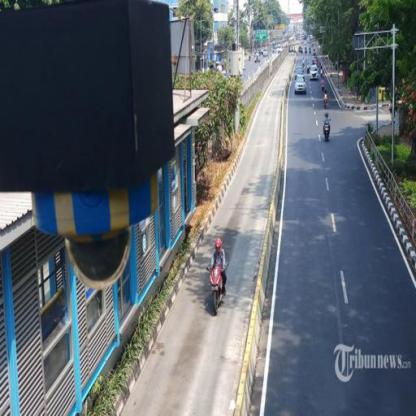car: (292, 71, 310, 96)
motorbike: (206, 261, 230, 317), (320, 121, 332, 141)
